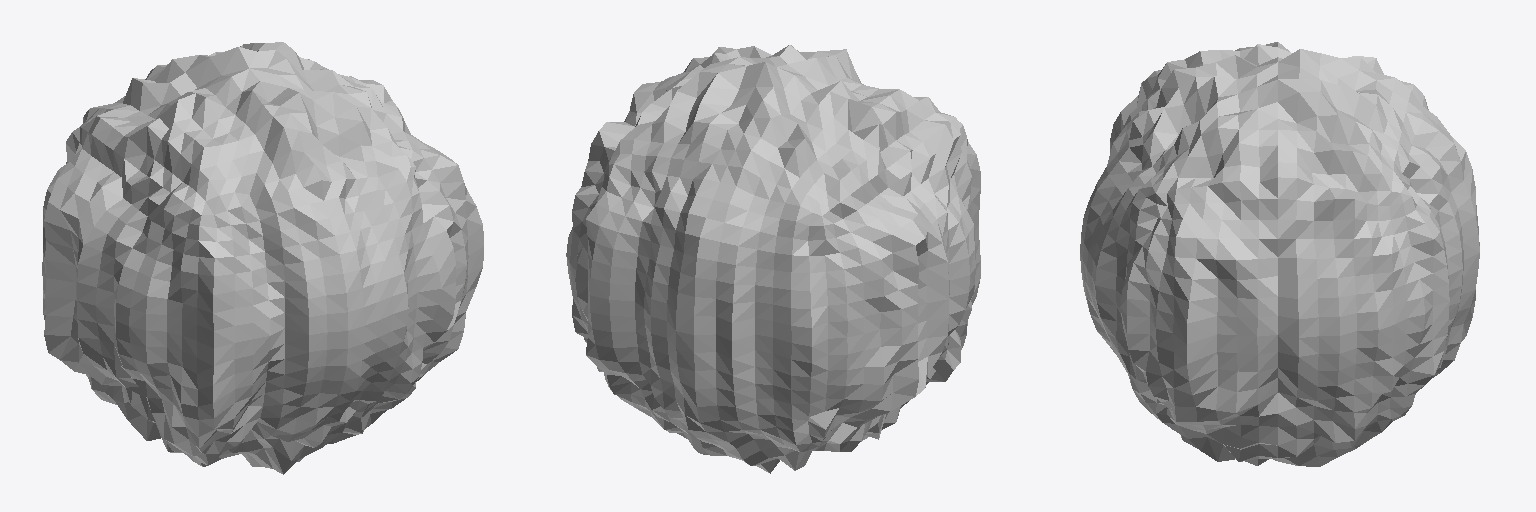
Rendered from asteroid159.obj.
3 views of the same model, side by side, from view 1: azimuth 30°, elevation 25°; view 2: azimuth 150°, elevation 25°; view 3: azimuth 270°, elevation 25° (orthographic).
Parts seen in each view (by area): view 1: Cube_Cube.002; view 2: Cube_Cube.002; view 3: Cube_Cube.002.
Boxes of the visible parts, x1,y1,x2,y2 form: Cube_Cube.002: [42, 42, 483, 474]; Cube_Cube.002: [566, 45, 980, 473]; Cube_Cube.002: [1080, 42, 1479, 466].
Size of the model in its own units: 1.75 by 1.88 by 1.67.